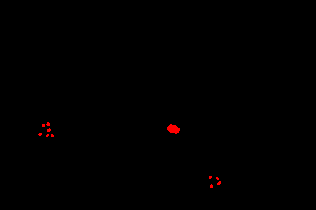Target: (167, 124, 180, 134), (46, 122, 50, 126), (47, 128, 51, 132), (217, 181, 221, 185), (38, 133, 42, 136), (210, 184, 213, 188), (42, 124, 45, 127), (46, 134, 49, 137), (51, 134, 54, 137), (209, 176, 212, 179), (216, 177, 219, 180)
